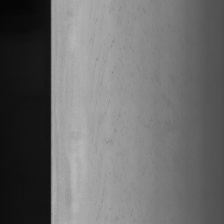silk_spot: (86, 7, 144, 174)
